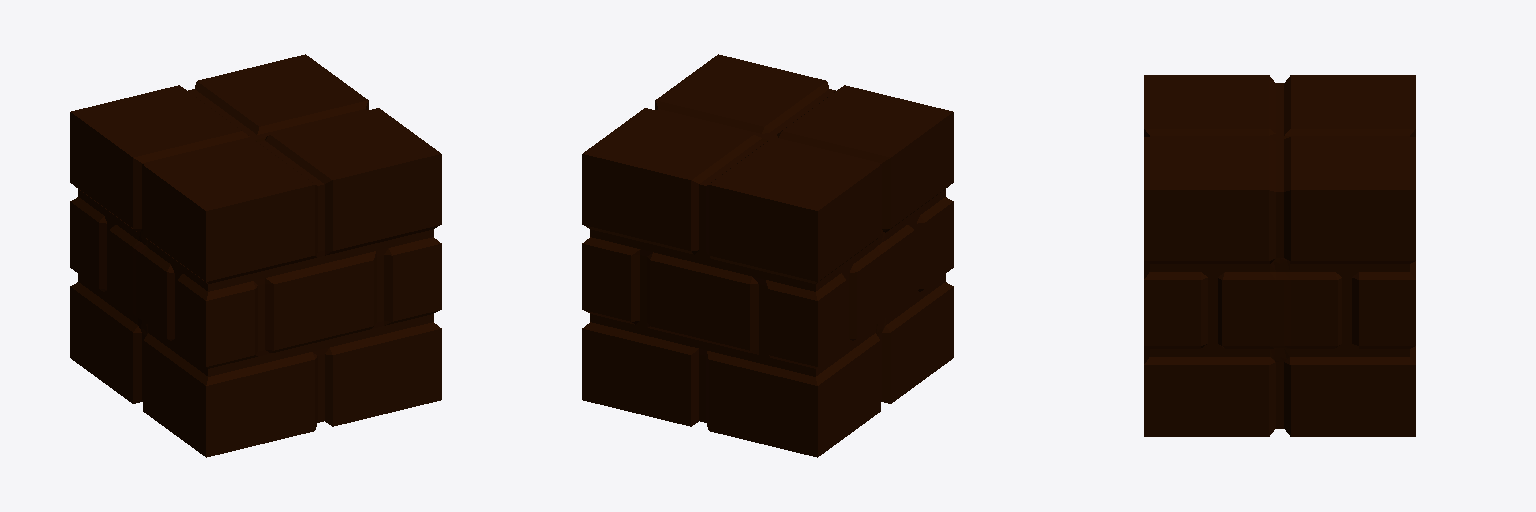
File: block.obj
3 renders of one model, left to right at view 1: azimuth 30°, elevation 25°; view 2: azimuth 150°, elevation 25°; view 3: azimuth 270°, elevation 25°, orthographic.
Size of the model in its own units: 12.01 by 12 by 12.